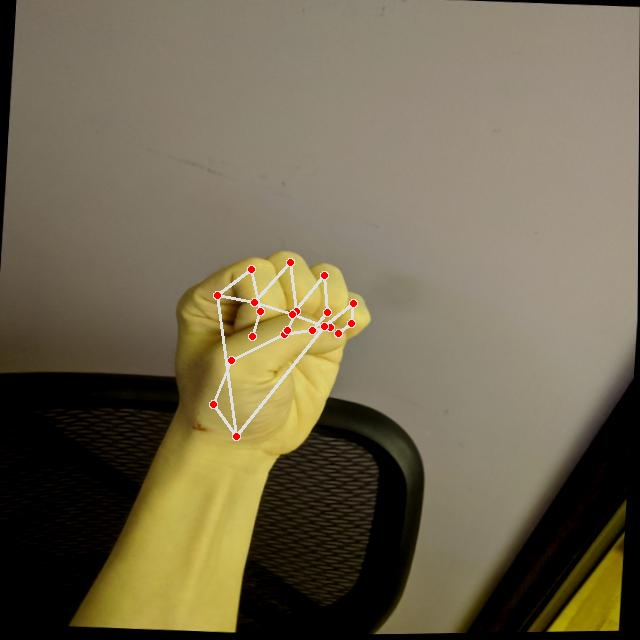E: (162, 238, 382, 467)
